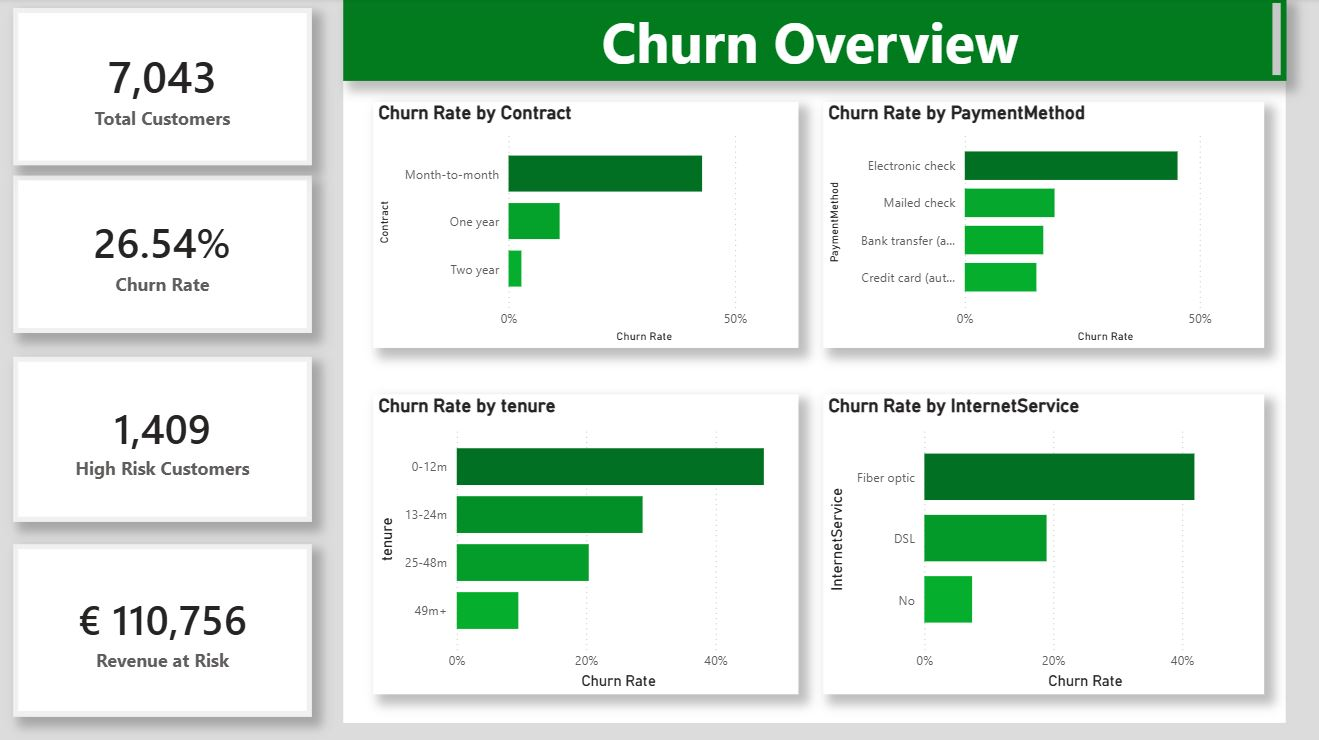

Layout of this report page (visuals, bound fields, positions):
{"tool":"powerbi","page":{"name":"Página 1","canvas":[1280,720],"ordinal":0},"visuals":[{"type":"shape","box":[0,0,1280,720.2],"z":0},{"type":"shape","box":[334.2,79.6,909.7,620.1],"z":1000},{"type":"cardVisual","title":"Total Costomers","fields":{"Data":["CountNonNull(churn_predictions.customerID)"]},"box":[15.7,9.7,288.3,152],"z":2000},{"type":"cardVisual","title":"Churn Rate","fields":{"Data":["churn_predictions.Churn Rate"]},"box":[15.7,171.3,288.3,152],"z":3000},{"type":"cardVisual","title":"High Risk Customer","fields":{"Data":["churn_predictions.High Risk Customers"]},"box":[15.7,346.2,288.3,159.3],"z":4000},{"type":"cardVisual","title":"Revenue at Risk","fields":{"Data":["churn_predictions.Revenue at Risk"]},"box":[15.7,527.2,288.3,166.5],"z":5000},{"type":"clusteredBarChart","title":"Churn Rate by Contract","fields":{"Category":["churn_predictions.Contract"],"Y":["churn_predictions.Churn Rate"]},"box":[363.1,100.1,410.2,237.7],"z":6000},{"type":"clusteredBarChart","title":"Churn Rate by tenure","fields":{"Y":["churn_predictions.Churn Rate"],"Category":["churn_predictions.tenure_bucket"]},"box":[363.1,382.7,410.2,289.5],"z":7000},{"type":"clusteredBarChart","title":"Churn Rate by PaymentMethod","fields":{"Y":["churn_predictions.Churn Rate"],"Category":["churn_predictions.PaymentMethod"]},"box":[797.5,100.4,425.9,237.7],"z":8000},{"type":"clusteredBarChart","title":"Churn Rate by InternetService","fields":{"Y":["churn_predictions.Churn Rate"],"Category":["churn_predictions.InternetService"]},"box":[797.5,382.7,425.9,289.5],"z":9000},{"type":"textbox","box":[333.8,0,910,80],"z":11000}]}

Visuals, with their boxes in screenshot pixels (x1, y1, x2, y2), scaled from the page's 1280x720 canvas onto the 1319x740 screenshot:
shape: (x1=0, y1=0, x2=1318, y2=739)
shape: (x1=344, y1=82, x2=1282, y2=719)
"Total Costomers" cardVisual: (x1=16, y1=10, x2=313, y2=166)
"Churn Rate" cardVisual: (x1=16, y1=176, x2=313, y2=332)
"High Risk Customer" cardVisual: (x1=16, y1=356, x2=313, y2=520)
"Revenue at Risk" cardVisual: (x1=16, y1=542, x2=313, y2=713)
"Churn Rate by Contract" clusteredBarChart: (x1=374, y1=103, x2=797, y2=347)
"Churn Rate by tenure" clusteredBarChart: (x1=374, y1=393, x2=797, y2=691)
"Churn Rate by PaymentMethod" clusteredBarChart: (x1=822, y1=103, x2=1261, y2=347)
"Churn Rate by InternetService" clusteredBarChart: (x1=822, y1=393, x2=1261, y2=691)
textbox: (x1=344, y1=0, x2=1282, y2=82)
